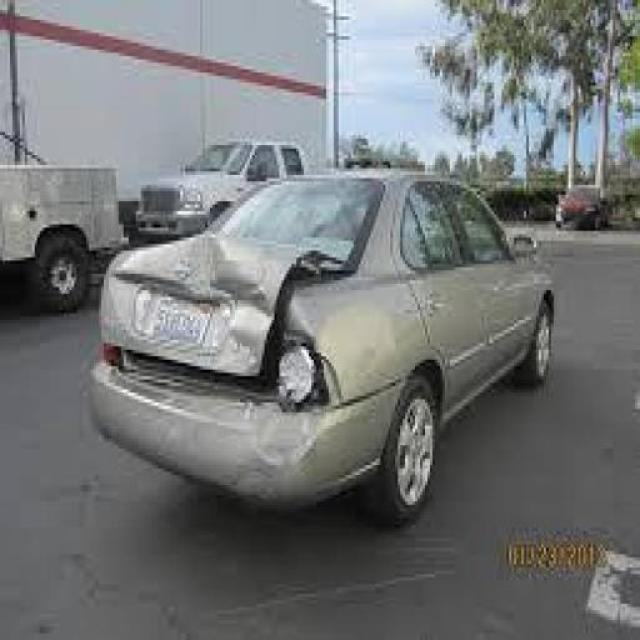crush: (100, 232, 348, 457)
